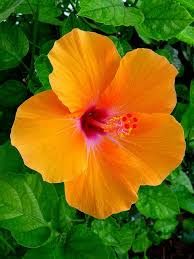hybiscus: (15, 30, 188, 218)
